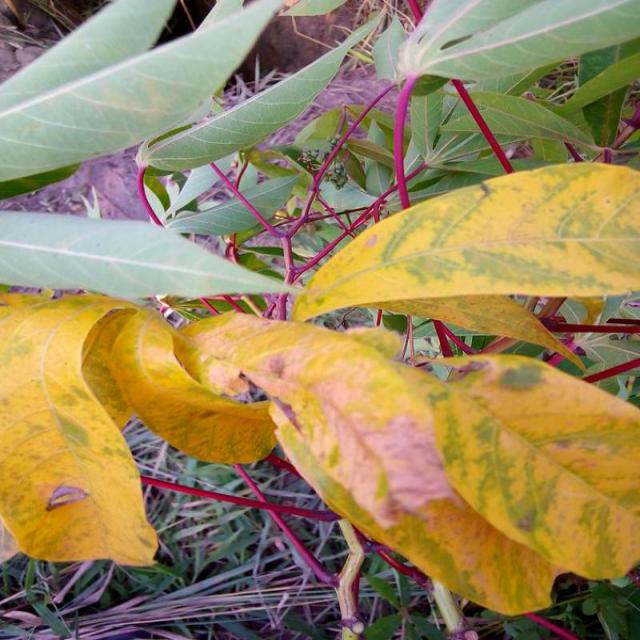cassava leaf: (174, 306, 640, 616), (291, 160, 640, 358), (2, 0, 286, 195), (1, 289, 160, 568), (0, 208, 302, 304), (374, 0, 640, 96)
